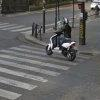Motorcycle: (36, 23, 100, 68)
